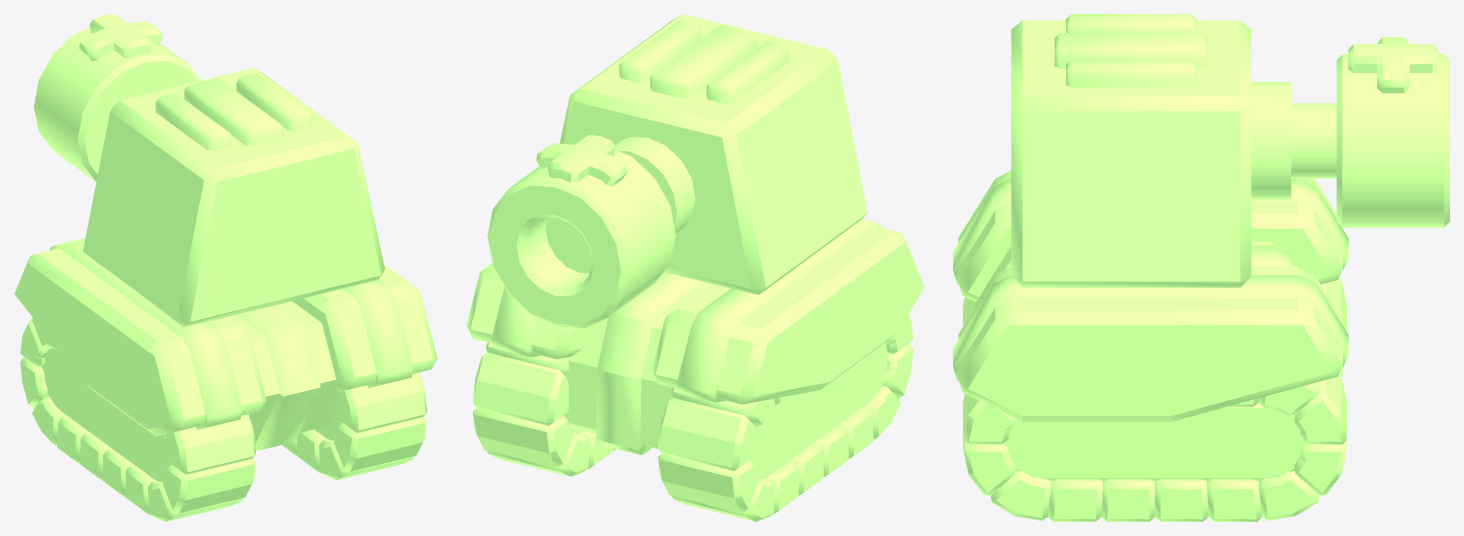
The model's file is Tanks-Green.fbx.
3 renders of one model, left to right at view 1: azimuth 30°, elevation 25°; view 2: azimuth 150°, elevation 25°; view 3: azimuth 270°, elevation 25°, orthographic. The views are drawn at different scales.
Visible parts, largest first — view 1: Lv1-Rail-Green, Lv1-Body-Green, Lv1-Cannon-Green; view 2: Lv1-Rail-Green, Lv1-Body-Green, Lv1-Cannon-Green; view 3: Lv1-Rail-Green, Lv1-Body-Green, Lv1-Cannon-Green.
Boxes of the visible parts, x1,y1,x2,y2 form: Lv1-Rail-Green: [14, 238, 437, 521]; Lv1-Body-Green: [83, 68, 384, 327]; Lv1-Cannon-Green: [34, 14, 200, 181]; Lv1-Rail-Green: [466, 219, 924, 521]; Lv1-Body-Green: [559, 14, 867, 295]; Lv1-Cannon-Green: [487, 135, 695, 327]; Lv1-Rail-Green: [953, 170, 1348, 521]; Lv1-Body-Green: [1011, 14, 1251, 287]; Lv1-Cannon-Green: [1251, 37, 1449, 227].
Bounding box in the file's own units: 1.58 × 2.03 × 2.21.
